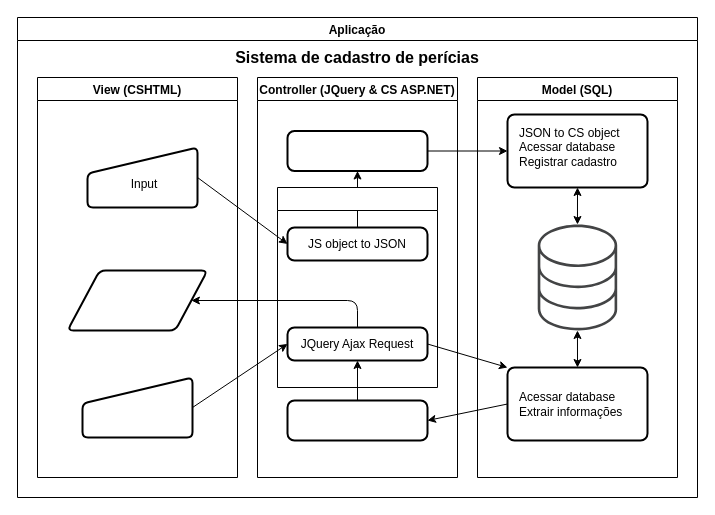
The diagram is 715 pixels wide and 515 high, and some of its shapes have lost their labels. The shapes that lost their labels are listed below. From the top down, each one's centre as x and y in pixels, then its label:
the point at 357,151: JQuery Ajax Post
the point at 137,300: Dados requisitados
the point at 357,287: Client Side
the point at 137,407: Request
the point at 357,420: CS object to JSON
